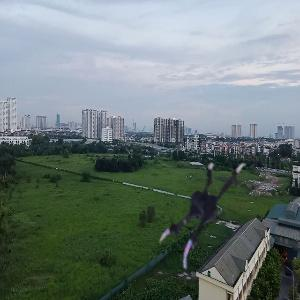drone: (152, 157, 274, 279)
